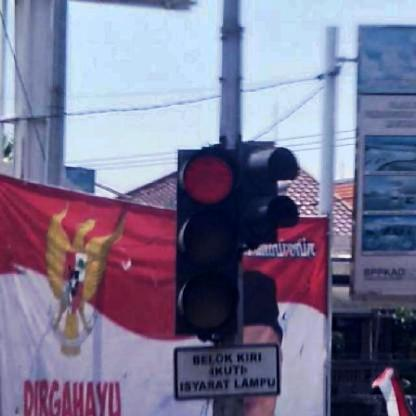Traffic Light -Red-: (176, 148, 239, 335)
